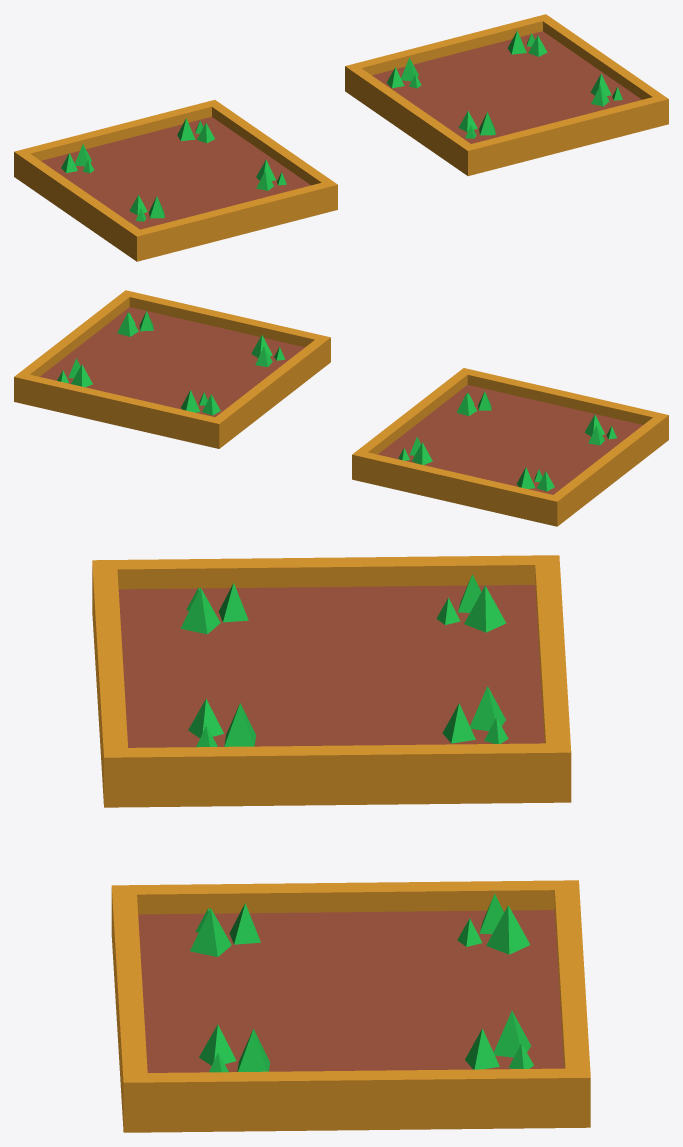
Rendered from Planting.glb.
3 renders of one model, top to bottom at view 1: azimuth 30°, elevation 25°; view 2: azimuth 150°, elevation 25°; view 3: azimuth 270°, elevation 25°, orthographic. The views are drawn at different scales.
Parts seen in each view (by area): view 1: Patch box.001, Patch box, Cone.003, Cone.007; view 2: Patch box.001, Patch box, Cone.003, Cone.007; view 3: Patch box.001, Patch box, Cone.003, Cone.007.
Part boxes in pixels (bbox=[...]): Patch box.001: bbox=[14, 100, 337, 261]; Patch box: bbox=[345, 14, 668, 175]; Cone.003: bbox=[386, 30, 622, 138]; Cone.007: bbox=[61, 118, 286, 221]; Patch box.001: bbox=[352, 368, 668, 526]; Patch box: bbox=[14, 290, 330, 448]; Cone.003: bbox=[57, 311, 285, 415]; Cone.007: bbox=[398, 391, 616, 491]; Patch box.001: bbox=[92, 555, 571, 807]; Patch box: bbox=[111, 880, 590, 1132]; Cone.003: bbox=[190, 893, 533, 1072]; Cone.007: bbox=[180, 574, 508, 747].
Bounding box in the file's own units: 4.89 × 0.3048 × 1.96.
Materials: 3 (2 with a texture image).
